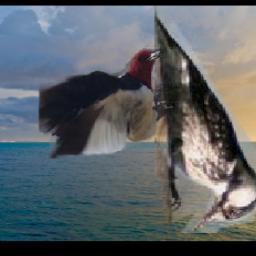Woodpecker: (156, 6, 256, 233), (39, 42, 173, 158)
